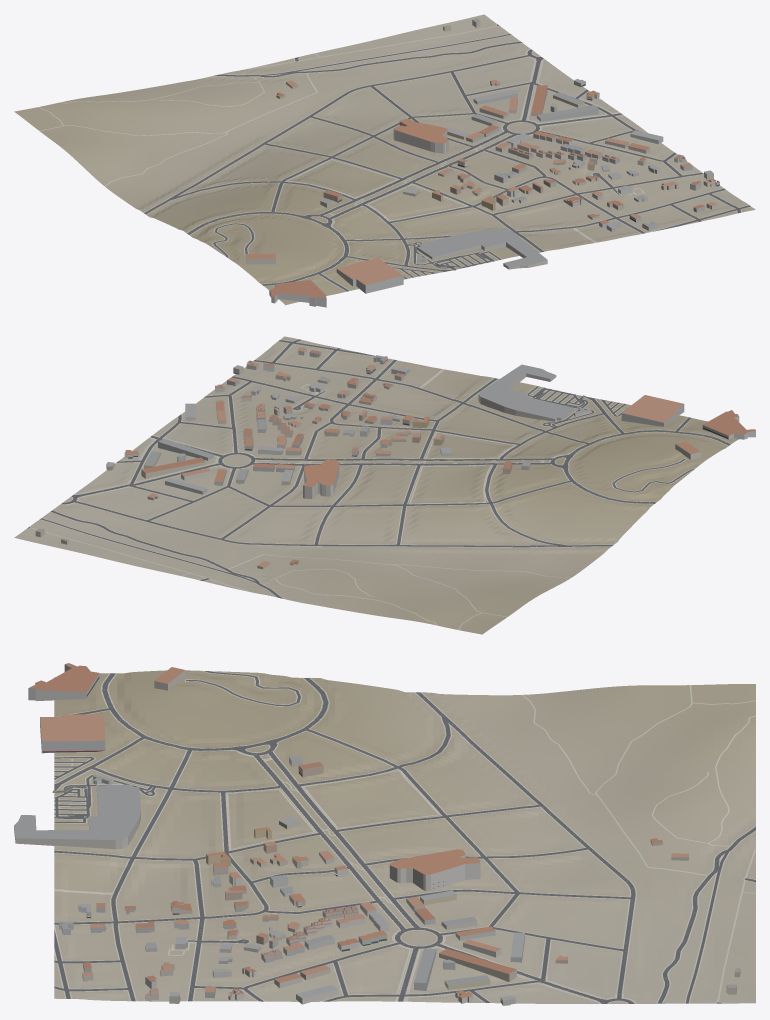
3 renders of one model, top to bottom at view 1: azimuth 30°, elevation 25°; view 2: azimuth 150°, elevation 25°; view 3: azimuth 270°, elevation 25°, orthographic. The views are drawn at different scales.
Visible parts, largest first — view 1: Ground, Sidewalk, Road, Roofs, Walls; view 2: Ground, Sidewalk, Road, Roofs, Walls; view 3: Ground, Road, Sidewalk, Roofs, Walls.
Boxes of the visible parts, left/top/right/bottom form: Ground: left=14, top=14, right=755, bottom=305; Sidewalk: left=38, top=24, right=751, bottom=291; Road: left=144, top=24, right=750, bottom=291; Roofs: left=246, top=18, right=719, bottom=298; Walls: left=246, top=20, right=719, bottom=307; Ground: left=14, top=336, right=738, bottom=634; Sidewalk: left=27, top=339, right=731, bottom=629; Road: left=27, top=339, right=730, bottom=598; Roofs: left=36, top=347, right=755, bottom=566; Walls: left=35, top=348, right=755, bottom=569; Ground: left=54, top=670, right=755, bottom=1003; Road: left=54, top=671, right=755, bottom=1003; Sidewalk: left=54, top=670, right=755, bottom=1003; Roofs: left=14, top=663, right=740, bottom=1000; Walls: left=14, top=664, right=740, bottom=1005.
Bounding box in the file's own units: 1027 × 70.52 × 1057.
